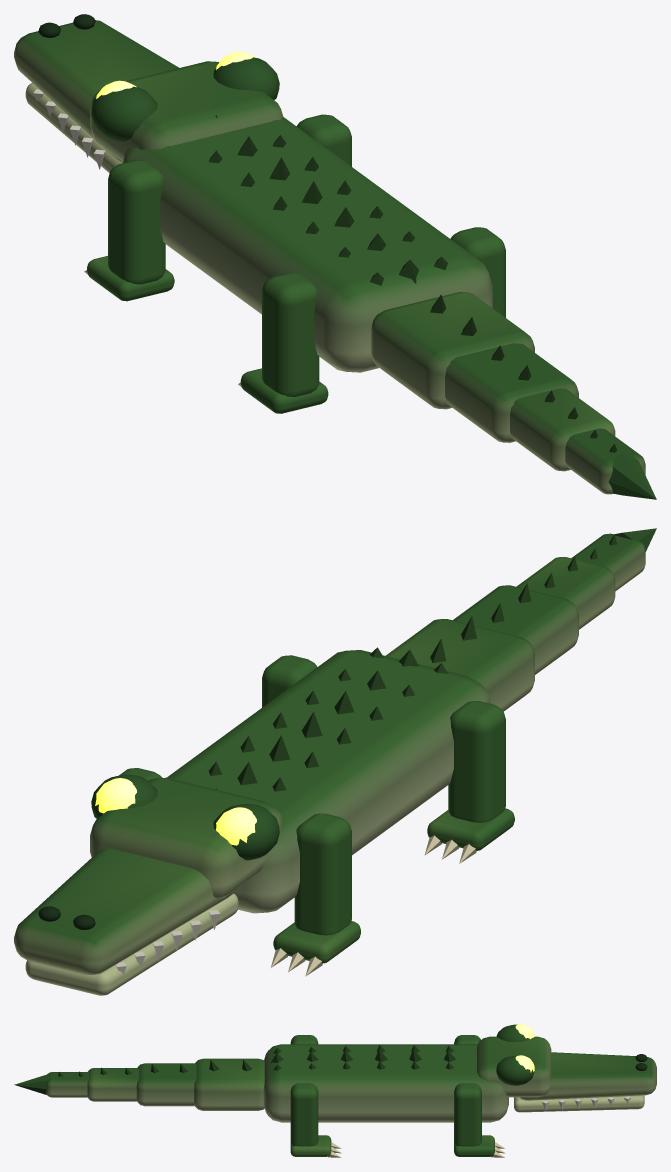
File: cocodrilo.glb
3 renders of one model, top to bottom at view 1: azimuth 30°, elevation 25°; view 2: azimuth 150°, elevation 25°; view 3: azimuth 270°, elevation 25°, orthographic. The views are drawn at different scales.
Parts seen in each view (by area): view 1: Cuerpo, Cabeza, Cola 0, Pata.001, Pata.003, Cola 1, Cola 2, Cola 3, Pata.002, Pata; view 2: Cuerpo, Cabeza, Pata.003, Pata.001, Cola 0, Cola 1, Cola 2, Cola 3, Pata.002, Ojo, Ojo.001; view 3: Cuerpo, Cabeza, Cola 0, Cola 1, Pata.002, Pata, Cola 2, Cola 3, Pata.003, Pata.001.
Part boxes in pixels (bbox=[...]): Cuerpo: bbox=[123, 115, 492, 372]; Cabeza: bbox=[14, 14, 283, 172]; Cola 0: bbox=[371, 292, 534, 409]; Pata.001: bbox=[84, 160, 174, 301]; Pata.003: bbox=[238, 272, 328, 413]; Cola 1: bbox=[445, 343, 578, 442]; Cola 2: bbox=[510, 388, 615, 471]; Cola 3: bbox=[565, 428, 656, 499]; Pata.002: bbox=[450, 227, 505, 317]; Pata: bbox=[296, 114, 351, 166]; Cuerpo: bbox=[167, 647, 491, 913]; Cabeza: bbox=[14, 774, 283, 995]; Pata.003: bbox=[424, 701, 514, 863]; Pata.001: bbox=[271, 813, 360, 976]; Cola 0: bbox=[385, 616, 534, 711]; Cola 1: bbox=[453, 583, 578, 674]; Cola 2: bbox=[516, 556, 615, 629]; Cola 3: bbox=[571, 528, 656, 591]; Pata.002: bbox=[262, 655, 317, 707]; Ojo: bbox=[216, 807, 256, 845]; Ojo.001: bbox=[95, 778, 136, 813]; Cuerpo: bbox=[263, 1044, 508, 1122]; Cabeza: bbox=[477, 1024, 656, 1112]; Cola 0: bbox=[194, 1058, 264, 1110]; Cola 1: bbox=[136, 1063, 196, 1106]; Pata.002: bbox=[290, 1083, 341, 1157]; Pata: bbox=[454, 1083, 505, 1157]; Cola 2: bbox=[87, 1067, 138, 1101]; Cola 3: bbox=[14, 1071, 88, 1097]; Pata.003: bbox=[290, 1035, 318, 1044]; Pata.001: bbox=[454, 1035, 480, 1044].
Size of the model in its own units: 1.82 by 1.19 by 7.86.
